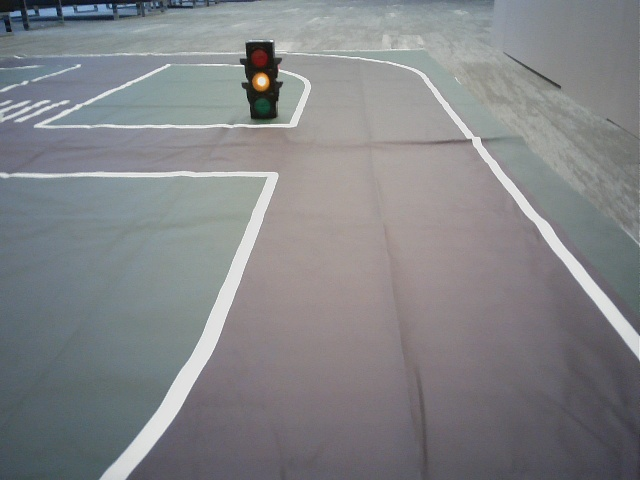yellow: (245, 44, 276, 119)
